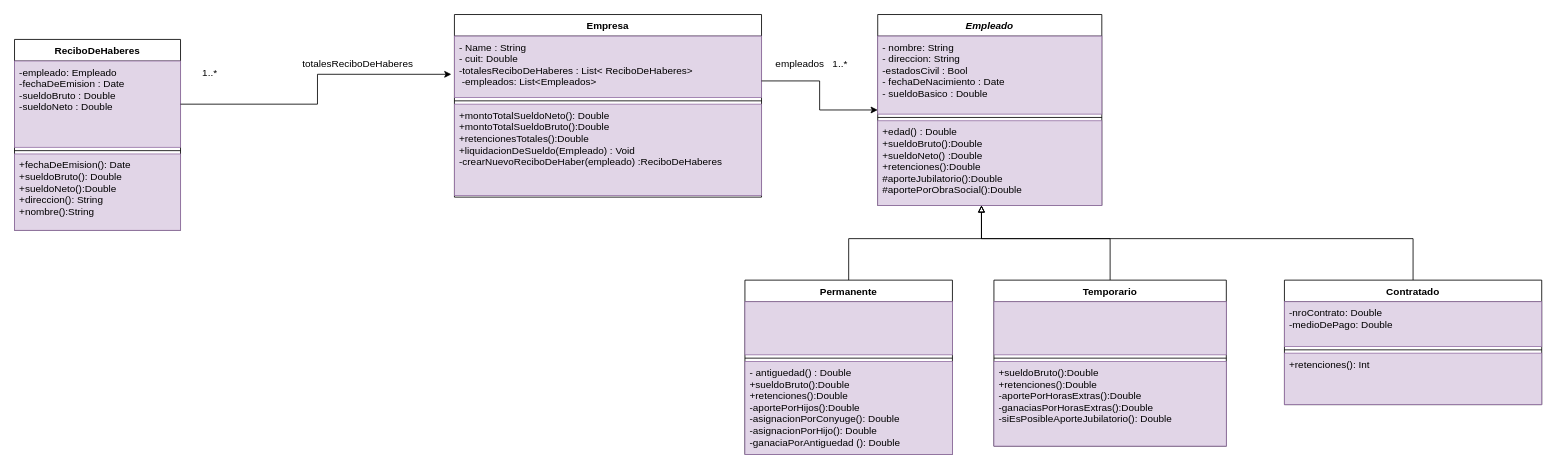
Image size: 1556x471. Some labels were removed from this diagram. Here are the shapes that lost their labels. From the top down, the centre of each, then its label:
At (x=848, y=328): "-fechaDeIngreso: Date -cantidadDeHijos : Double".
At (x=1109, y=328): "- fechaDeDesignacion : Date -cantidadDeHorasExtras : Double".
